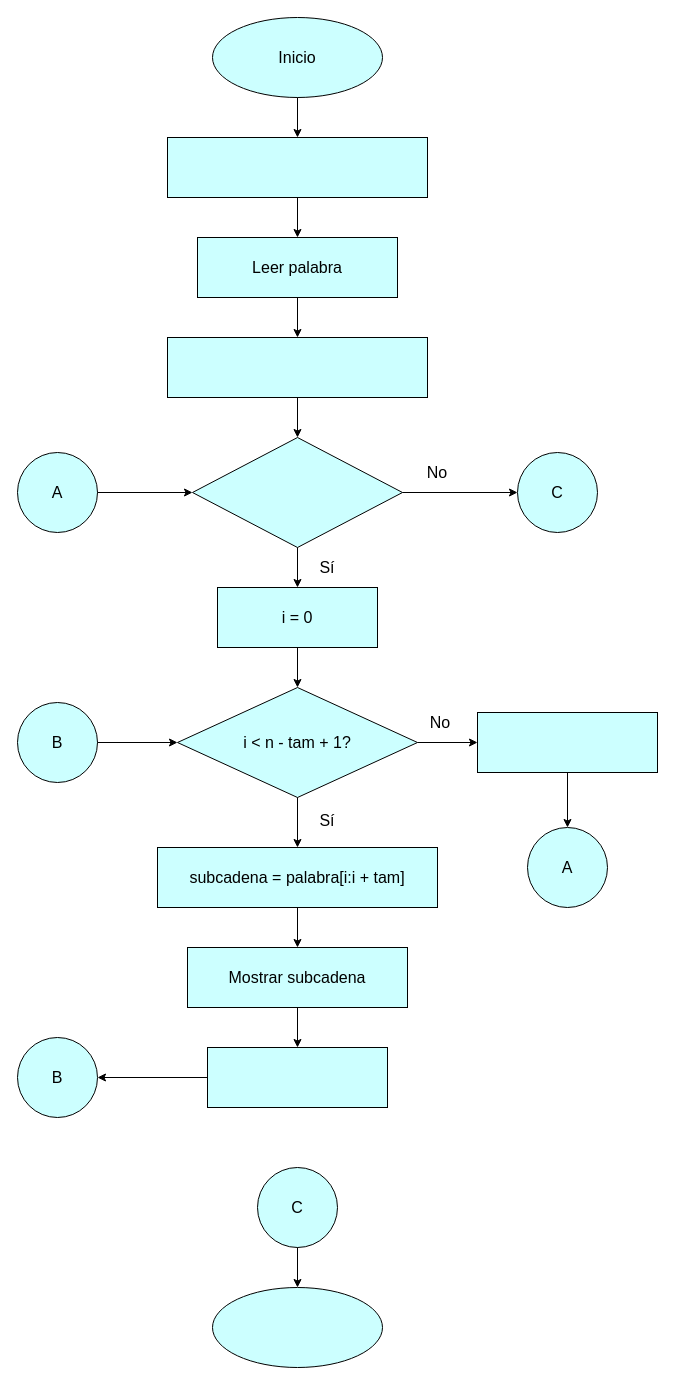
Some shapes in this 675 by 1385 pixel diagram are drawn without their labels. Here are the shapes that lost their labels. From the top down, the centre of each, then its label:
point 297,167: Mostrar: Digite una palabra
point 297,367: n = len(palabra), tam = 1
point 297,492: tam <= n?
point 567,742: tam = tam + 1
point 297,1077: i = i + 1
point 297,1327: Fin
